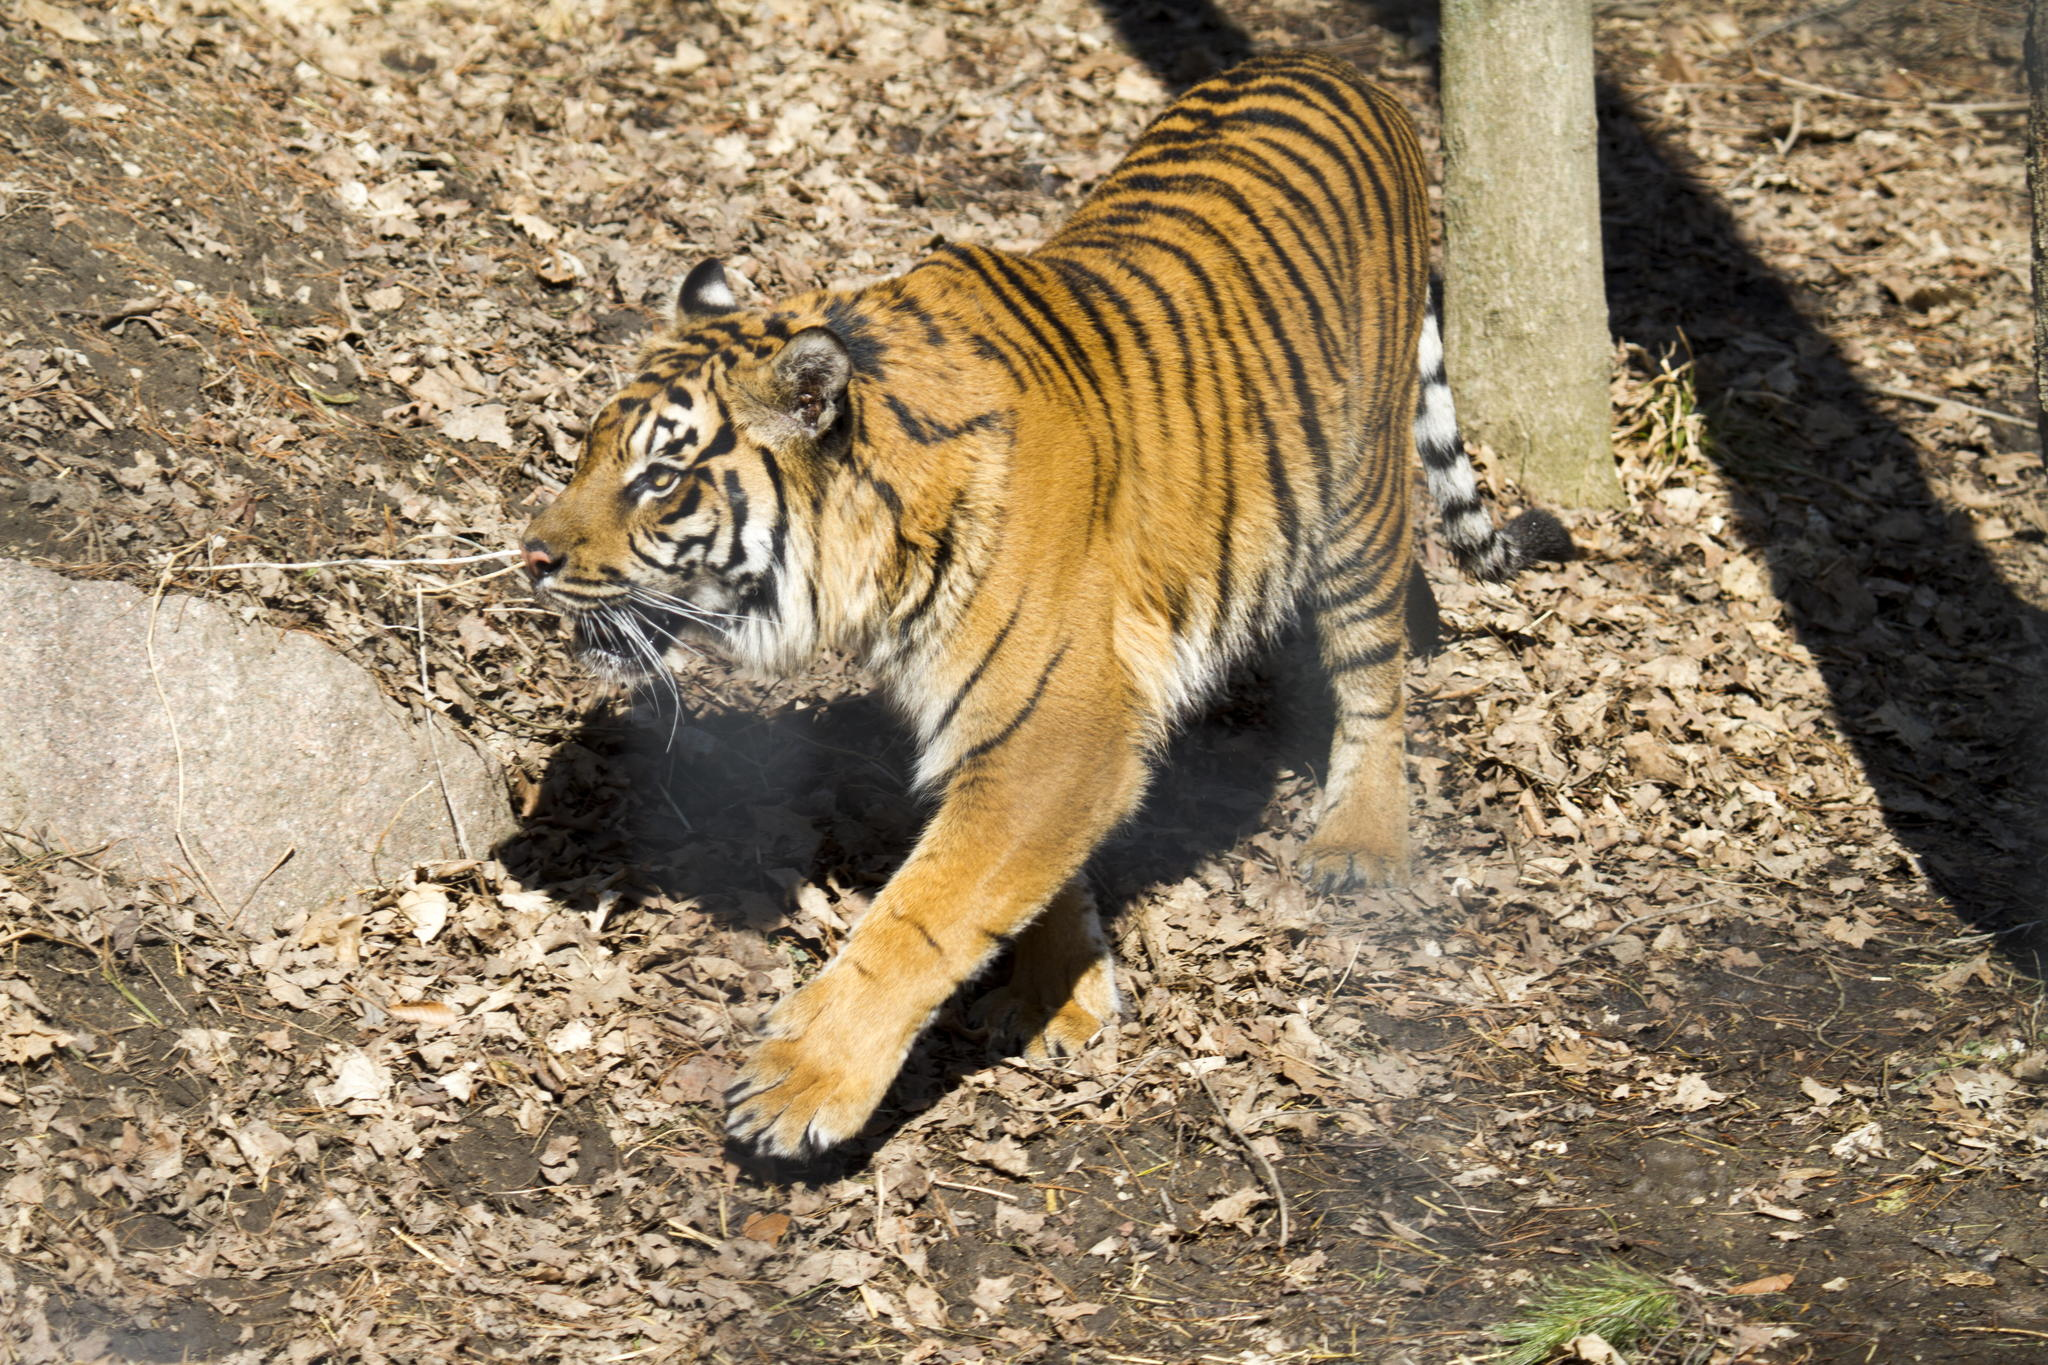tiger: (381, 94, 1532, 1149)
